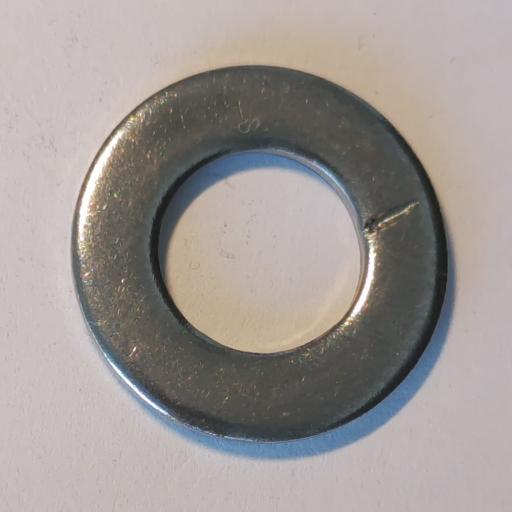scratch: (364, 201, 419, 234)
